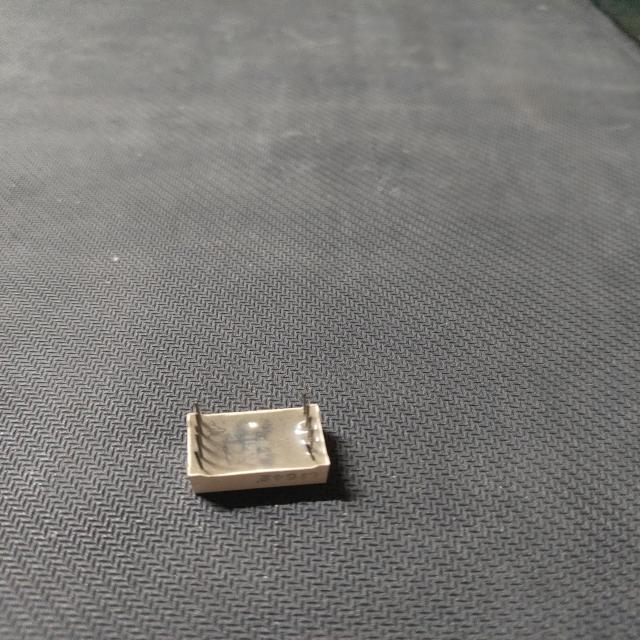sevensegment: (160, 380, 360, 503)
